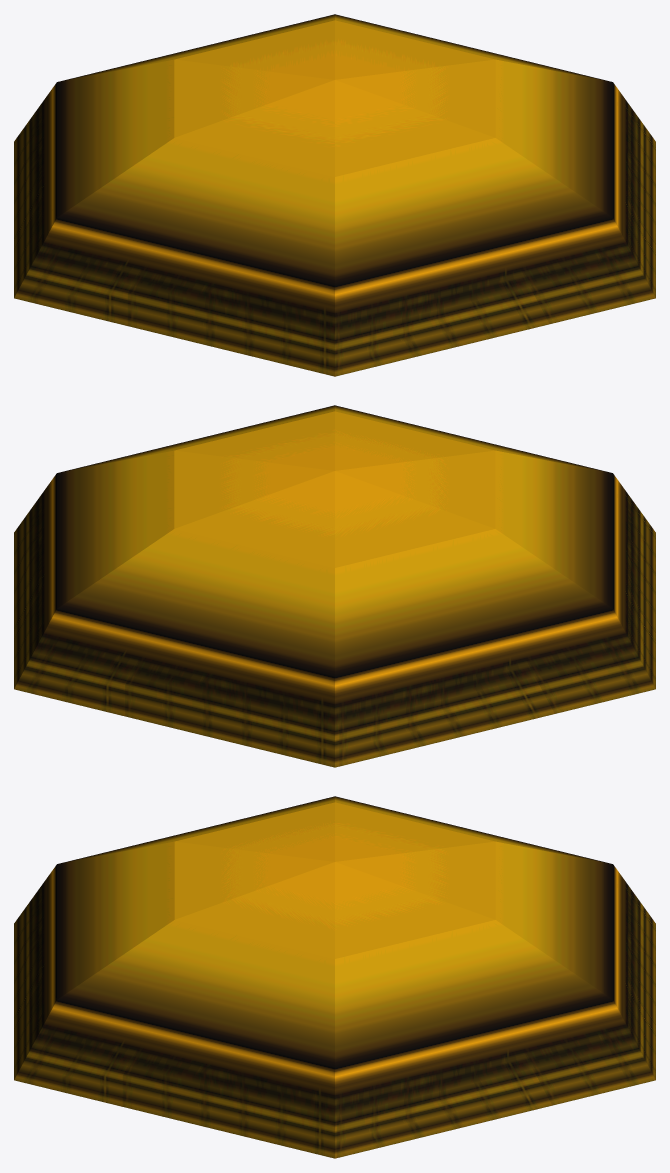
File: Polizei_Dach_2583.glb
The picture shows the model from 3 angles, top to bottom: view 1: azimuth 30°, elevation 25°; view 2: azimuth 150°, elevation 25°; view 3: azimuth 270°, elevation 25°; orthographic projection.
Visible parts, largest first — view 1: pSphereShape77; view 2: pSphereShape77; view 3: pSphereShape77.
Part boxes in pixels (x1,y1,x2,y2): pSphereShape77: (14, 14, 655, 376); pSphereShape77: (14, 405, 655, 767); pSphereShape77: (14, 796, 655, 1158).
Size of the model in its own units: 1.84 by 0.3835 by 1.59.
1 material, 1 textured.
